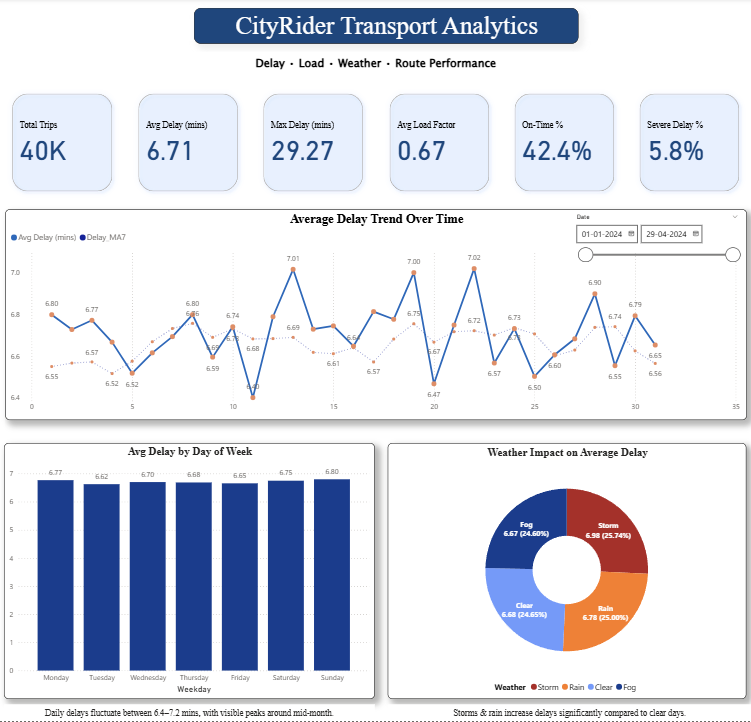

Layout of this report page (visuals, bound fields, positions):
{"tool":"powerbi","page":{"name":"Transport Analytics","canvas":[1280,1230],"ordinal":0},"visuals":[{"type":"textbox","box":[10,0,280,280],"z":0},{"type":"textbox","title":"CityRider  Transport Analytics ","box":[332.6,16.3,653.5,60.5],"z":1000},{"type":"textbox","box":[10,92.1,1260.1,31.1],"z":2000},{"type":"cardVisual","fields":{"Data":["KPI_Measures.TotalTrips"]},"box":[0,140.6,214,210.2],"z":3000},{"type":"cardVisual","fields":{"Data":["KPI_Measures.AvgDelay"]},"box":[213.7,140.6,214,210.2],"z":4000},{"type":"cardVisual","fields":{"Data":["KPI_Measures.ReliabilityPct"]},"box":[854.9,140.6,214,210.2],"z":5000},{"type":"cardVisual","fields":{"Data":["KPI_Measures.PctSevereDelays"]},"box":[1066.7,140,213.3,210],"z":6000},{"type":"cardVisual","fields":{"Data":["KPI_Measures.AvgLoadFactor"]},"box":[641.2,140.6,214,210.2],"z":7000},{"type":"cardVisual","fields":{"Data":["KPI_Measures.MaxDelay"]},"box":[427.4,140.6,214,210.2],"z":8000},{"type":"lineChart","title":"Average Delay Trend Over Time","fields":{"Category":["DateTable.Date.Variation.Date Hierarchy.Day"],"Y":["KPI_Measures.Avg Delay (mins)","KPI_Measures.Delay_MA7"]},"box":[10,360,1261,358.3],"z":9000},{"type":"slicer","fields":{"Values":["DateTable.Date"]},"box":[969.8,360.5,300,95.3],"z":10000},{"type":"clusteredColumnChart","title":"Avg Delay by Day of Week","fields":{"Y":["KPI_Measures.Avg Delay (mins)"],"Category":["DateTable.Weekday"]},"box":[9.3,755.8,630.2,434.9],"z":11000},{"type":"donutChart","title":"Weather Impact on Average Delay","fields":{"Category":["transport_cleaned.Weather"],"Y":["KPI_Measures.Avg Delay (mins)"]},"box":[660.5,755.8,609.3,434.9],"z":12000},{"type":"textbox","box":[9.3,1200,630.2,30.2],"z":13000},{"type":"textbox","box":[660.5,1200,618.6,30.2],"z":14000}]}

Visuals, with their boxes in screenshot pixels (x1, y1, x2, y2), scaled from the page's 1280x1230 canvas onto the 751x722 screenshot:
textbox: (6, 0, 170, 164)
"CityRider  Transport Analytics " textbox: (195, 10, 579, 45)
textbox: (6, 54, 745, 72)
cardVisual - KPI_Measures.TotalTrips: (0, 83, 126, 206)
cardVisual - KPI_Measures.AvgDelay: (125, 83, 251, 206)
cardVisual - KPI_Measures.ReliabilityPct: (502, 83, 627, 206)
cardVisual - KPI_Measures.PctSevereDelays: (626, 82, 750, 205)
cardVisual - KPI_Measures.AvgLoadFactor: (376, 83, 502, 206)
cardVisual - KPI_Measures.MaxDelay: (251, 83, 376, 206)
"Average Delay Trend Over Time" lineChart: (6, 211, 746, 422)
slicer - DateTable.Date: (569, 212, 745, 268)
"Avg Delay by Day of Week" clusteredColumnChart: (5, 444, 375, 699)
"Weather Impact on Average Delay" donutChart: (388, 444, 745, 699)
textbox: (5, 704, 375, 721)
textbox: (388, 704, 750, 721)
